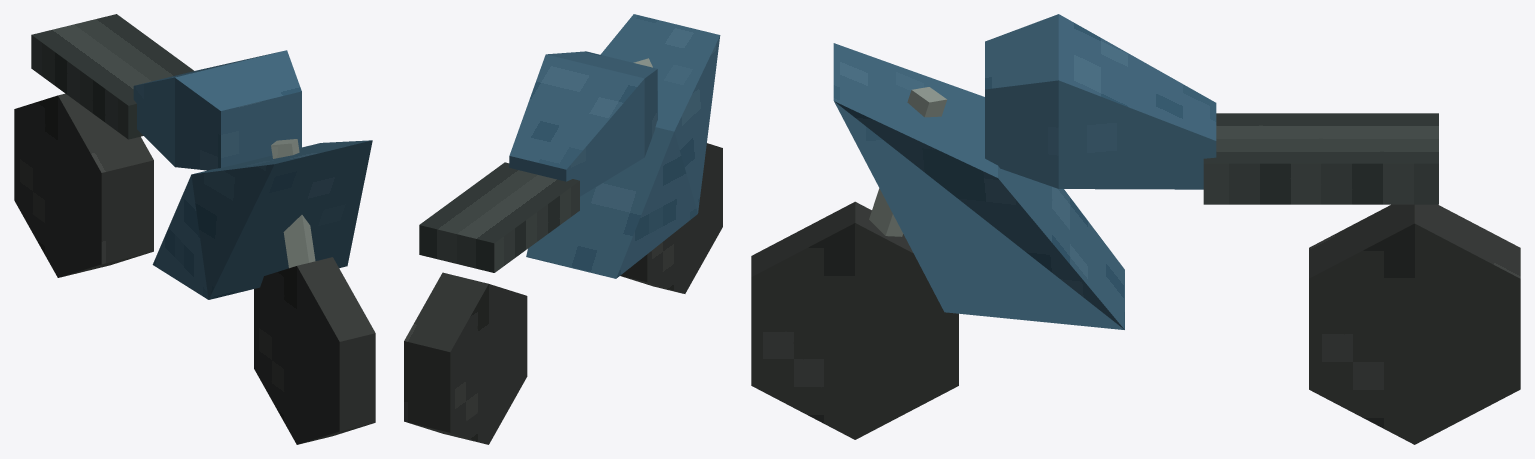
File: kelveran-2005-far.glb
The picture shows the model from 3 angles, left to right: view 1: azimuth 30°, elevation 25°; view 2: azimuth 150°, elevation 25°; view 3: azimuth 270°, elevation 25°; orthographic projection. The views are drawn at different scales.
Parts seen in each view (by area): view 1: body, Low detail tyre.001, Low detail tyre, Distance fork; view 2: body, Low detail tyre.001, Low detail tyre; view 3: body, Low detail tyre.001, Low detail tyre, Distance fork.
Part boxes in pixels (x1=…): body: x1=31, y1=14, x2=372, y2=299; Low detail tyre.001: x1=14, y1=93, x2=153, y2=277; Low detail tyre: x1=254, y1=257, x2=375, y2=444; Distance fork: x1=271, y1=139, x2=315, y2=268; body: x1=419, y1=14, x2=720, y2=278; Low detail tyre.001: x1=404, y1=272, x2=527, y2=444; Low detail tyre: x1=620, y1=143, x2=722, y2=293; body: x1=833, y1=14, x2=1438, y2=329; Low detail tyre.001: x1=1309, y1=204, x2=1520, y2=444; Low detail tyre: x1=751, y1=201, x2=958, y2=439; Distance fork: x1=869, y1=87, x2=947, y2=236.
Size of the model in its own units: 0.49 by 1.06 by 1.94.
Materials: 3 (3 with a texture image).
